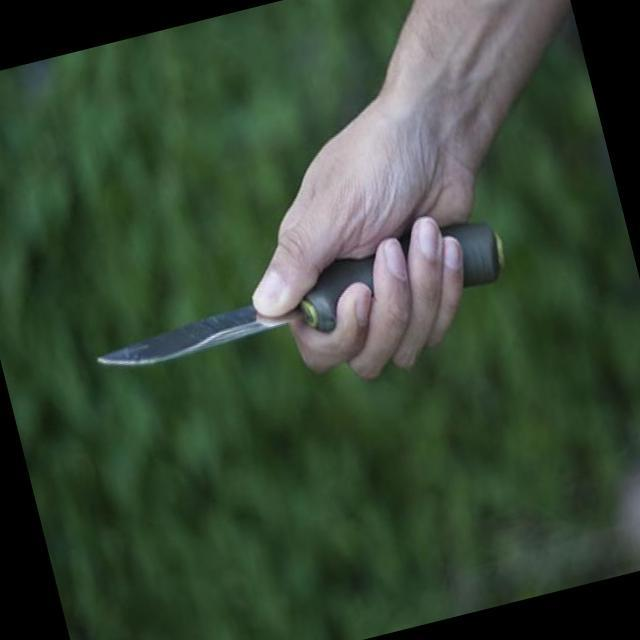Knife: (59, 202, 488, 456)
